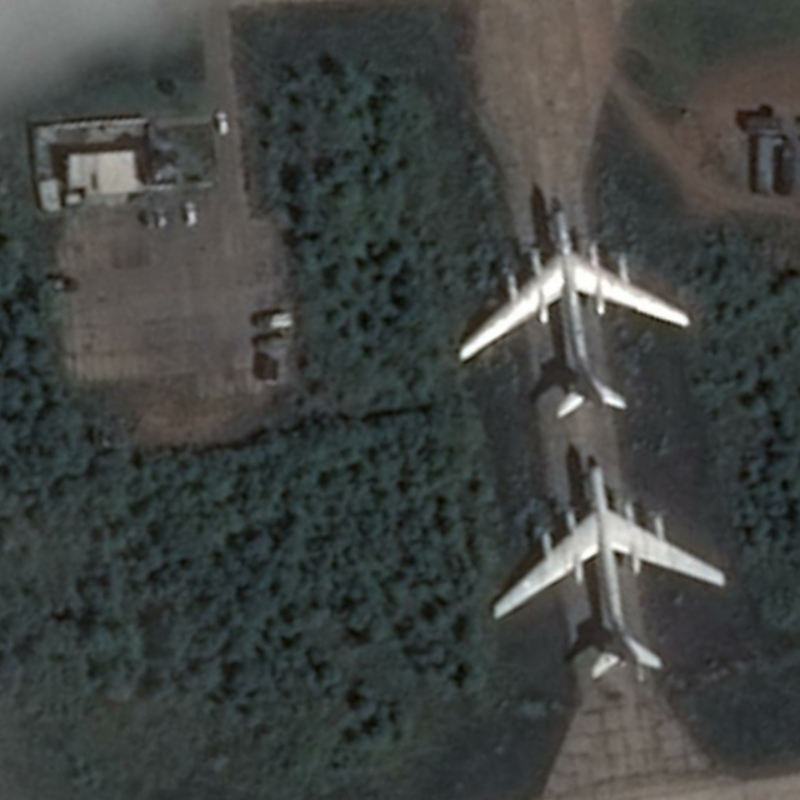A17: (486, 451, 730, 682), (453, 194, 692, 420)
